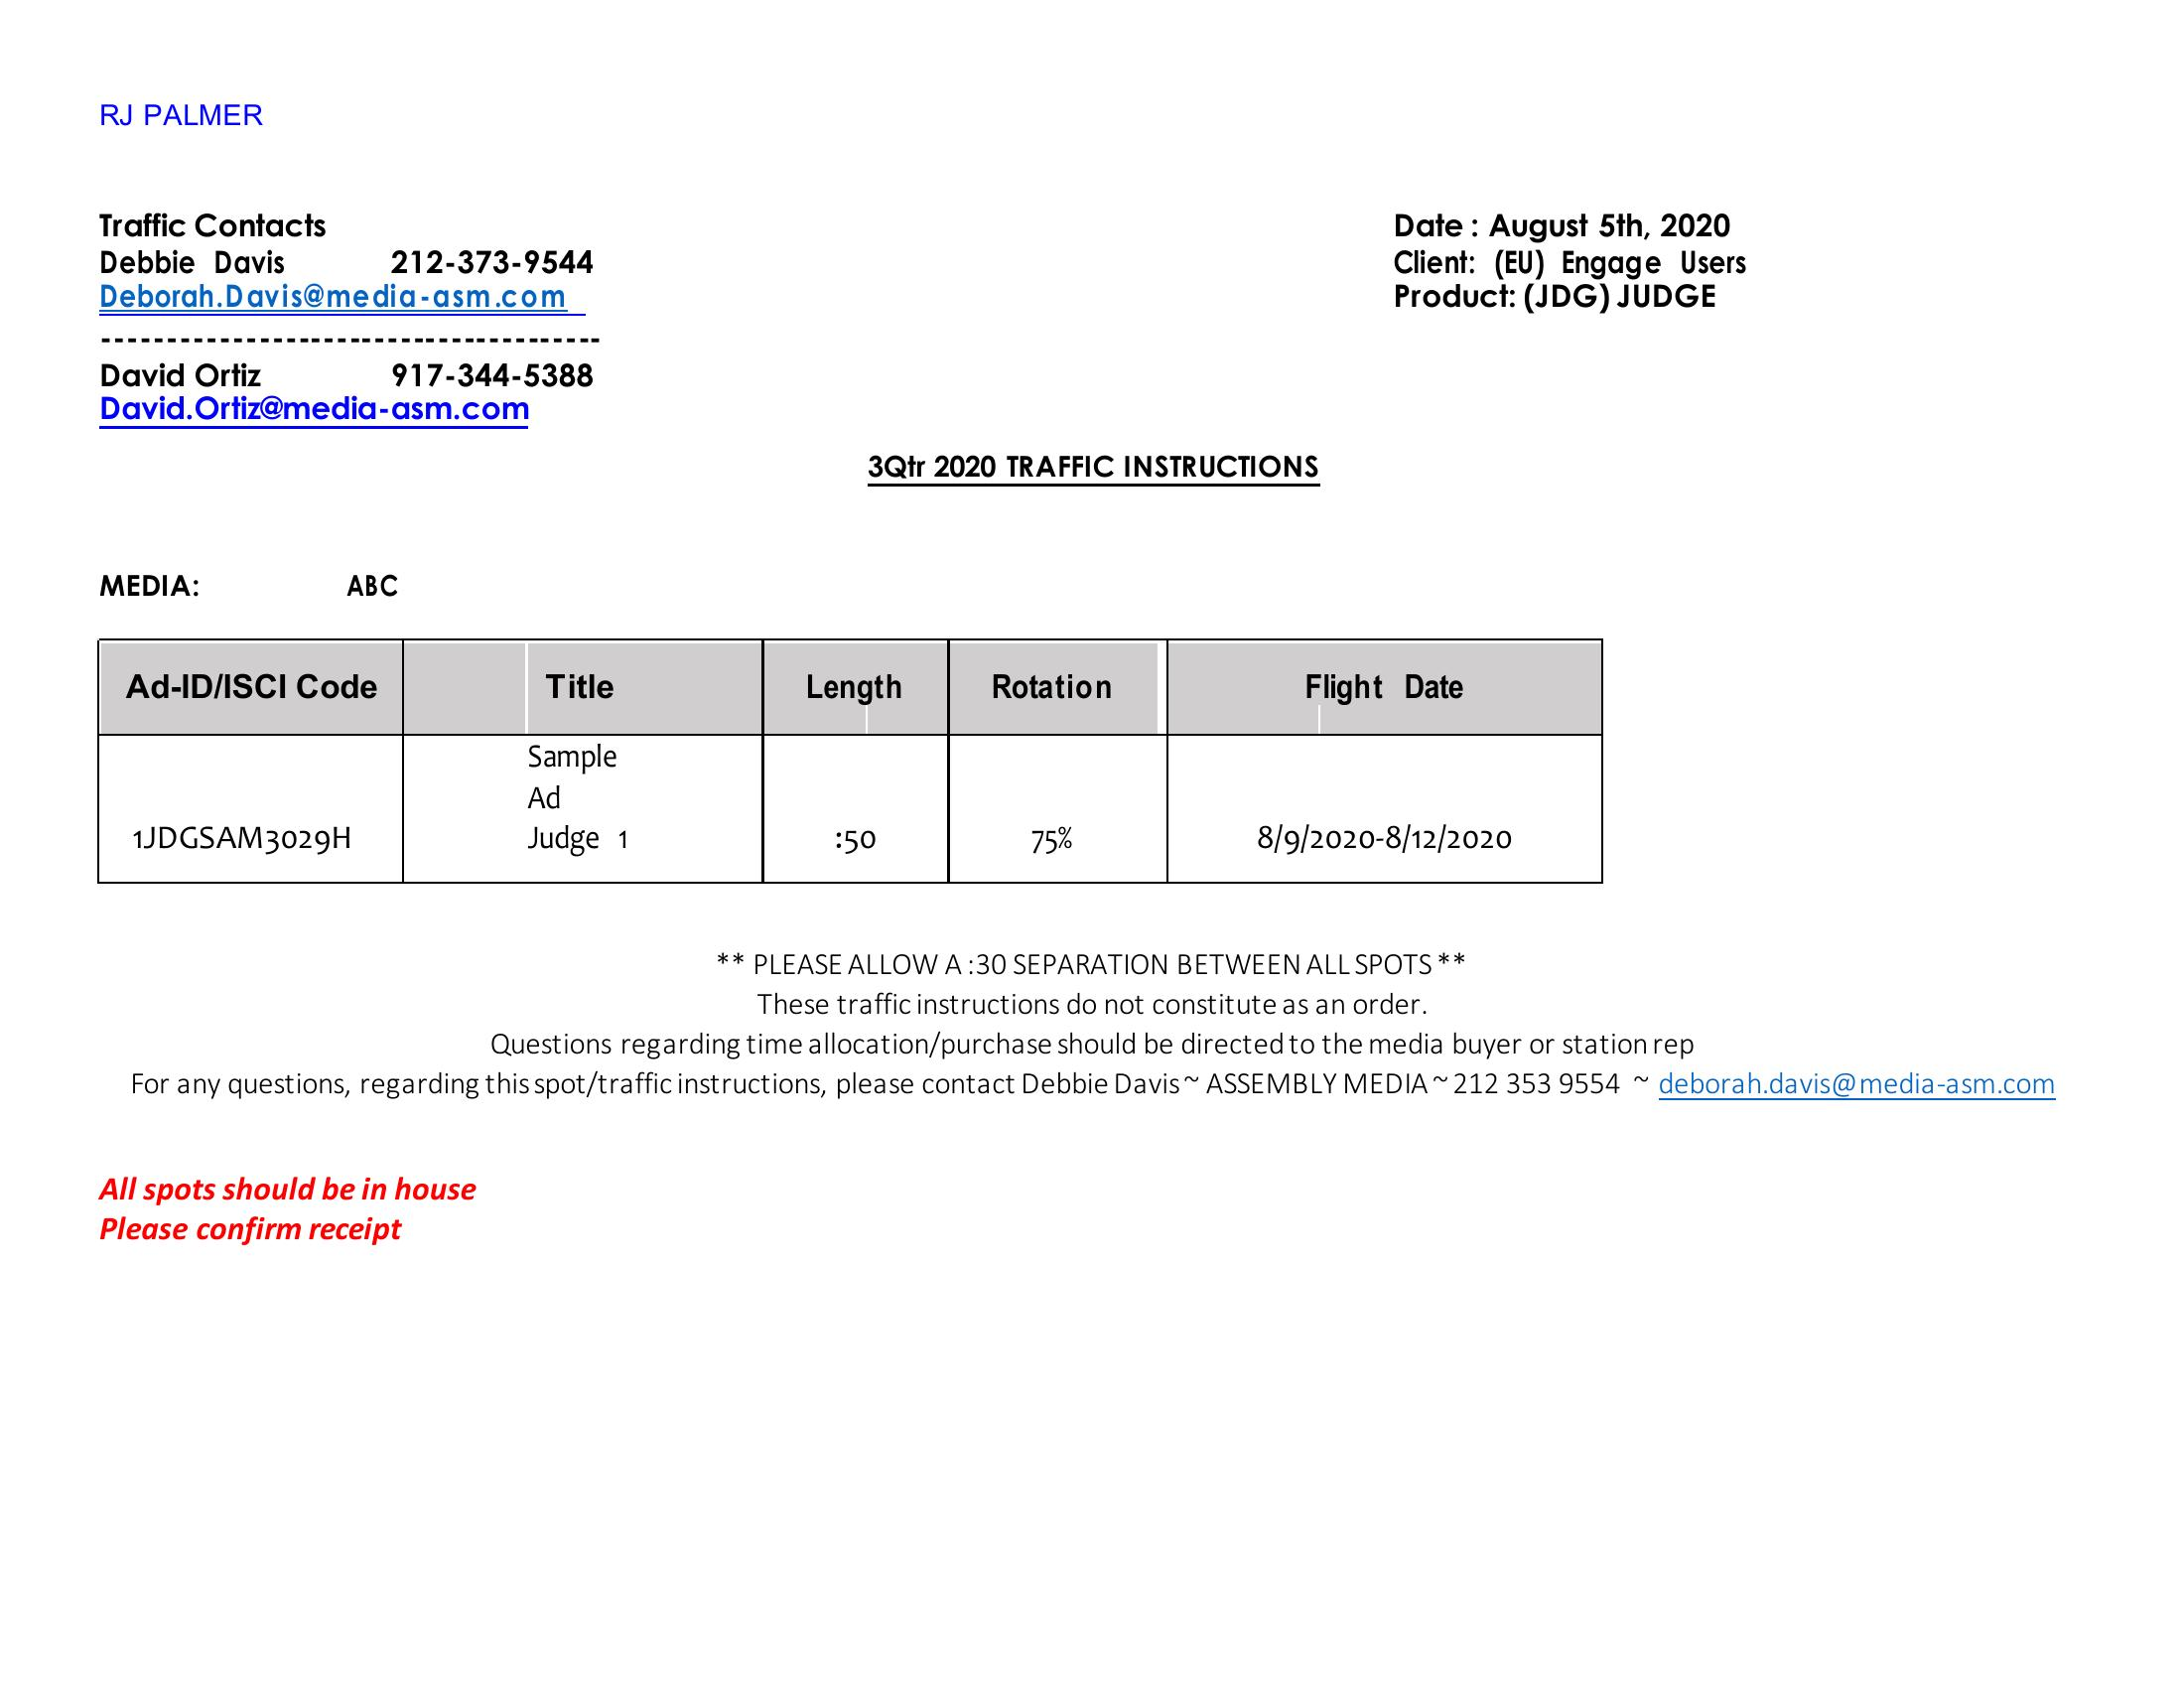table: (78, 619, 1620, 904)
